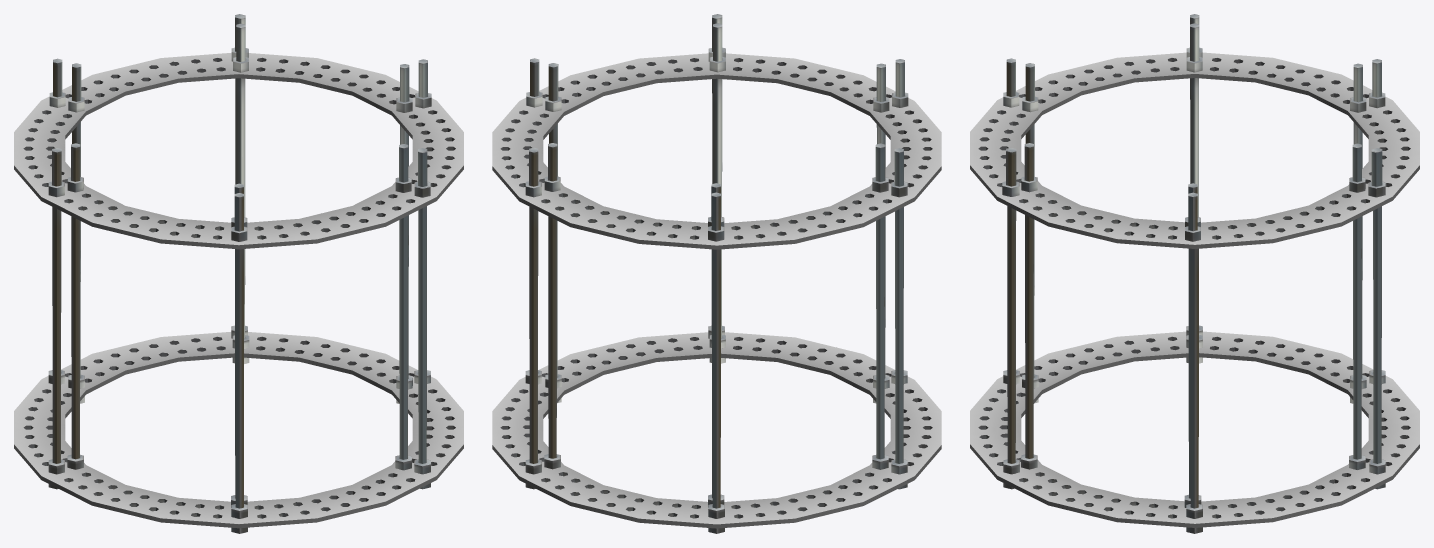
Rendered from shuangkui_neibumoxing_maoshuan.glb.
3 renders of one model, left to right at view 1: azimuth 30°, elevation 25°; view 2: azimuth 150°, elevation 25°; view 3: azimuth 270°, elevation 25°, orthographic.
Visible parts, largest first — view 1: neibumoxing_maoshuan; view 2: neibumoxing_maoshuan; view 3: neibumoxing_maoshuan.
Boxes of the visible parts, x1,y1,x2,y2 form: neibumoxing_maoshuan: (14,14,463,533); neibumoxing_maoshuan: (492,14,941,533); neibumoxing_maoshuan: (970,14,1419,533).
Bounding box in the file's own units: 500 × 405 × 492.
Materials: 1 (1 with a texture image).
